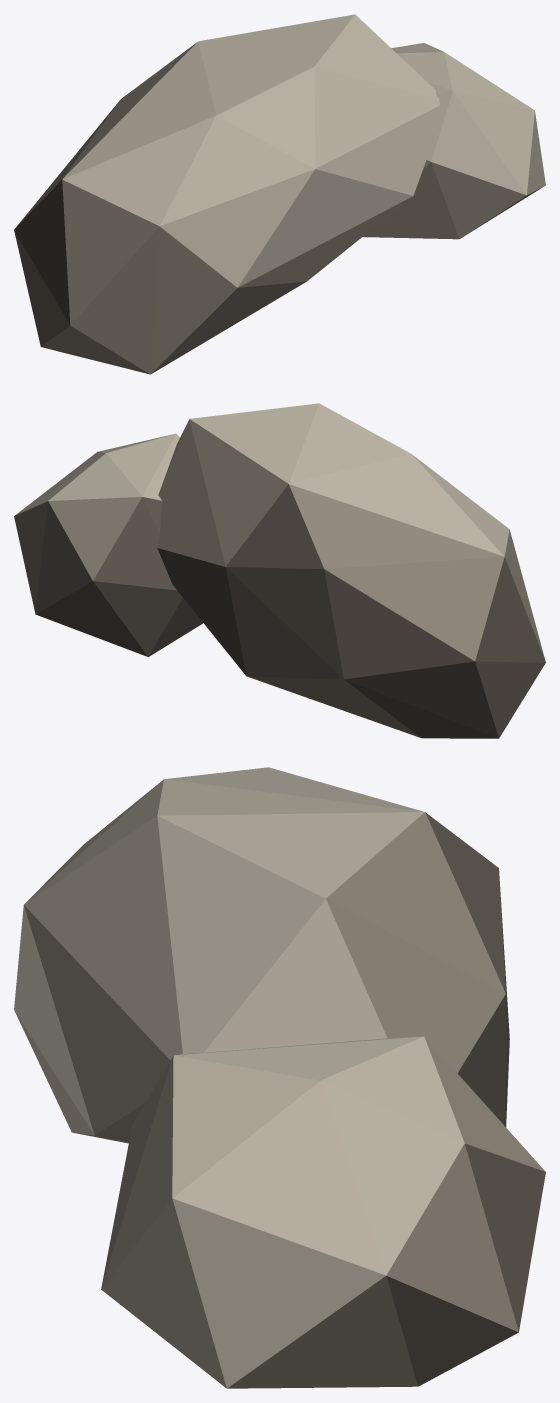
Rendered from stone_leaning.glb.
3 renders of one model, top to bottom at view 1: azimuth 30°, elevation 25°; view 2: azimuth 150°, elevation 25°; view 3: azimuth 270°, elevation 25°, orthographic. The views are drawn at different scales.
Parts seen in each view (by area): view 1: stone_leaning.002; view 2: stone_leaning.002; view 3: stone_leaning.002.
Part boxes in pixels (box(x1,y1,x2,y2)): stone_leaning.002: box(14, 14, 545, 374); stone_leaning.002: box(14, 403, 545, 738); stone_leaning.002: box(14, 767, 545, 1388).
Size of the model in its own units: 0.9 by 0.4542 by 0.4671.
